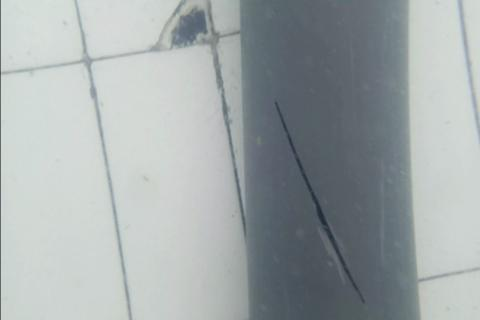keretakan: (275, 99, 367, 307)
